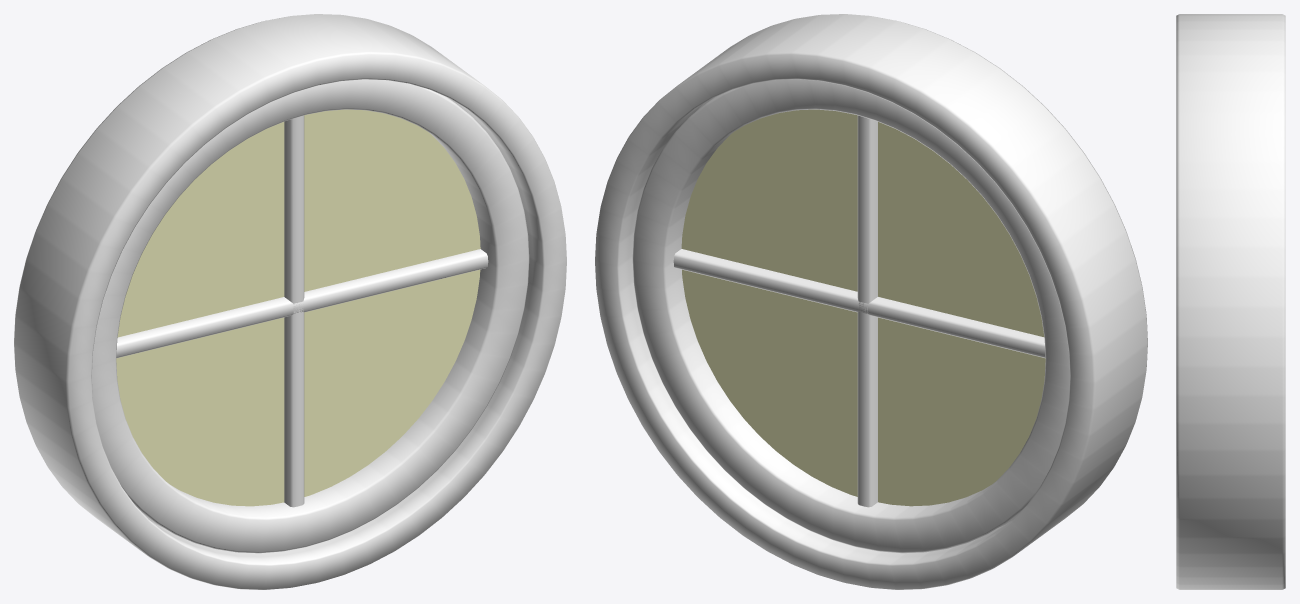
Rendered from RoundWindowWhiteWithBars01.fbx.
3 views of the same model, side by side, from view 1: azimuth 30°, elevation 25°; view 2: azimuth 150°, elevation 25°; view 3: azimuth 270°, elevation 25° (orthographic).
Parts seen in each view (by area): view 1: default; view 2: default; view 3: default.
Part boxes in pixels (<box>): default: <box>14,14,566,589</box>; default: <box>595,14,1147,589</box>; default: <box>1176,14,1285,589</box>.
Bounding box in the file's own units: 121 × 121 × 23.03.
